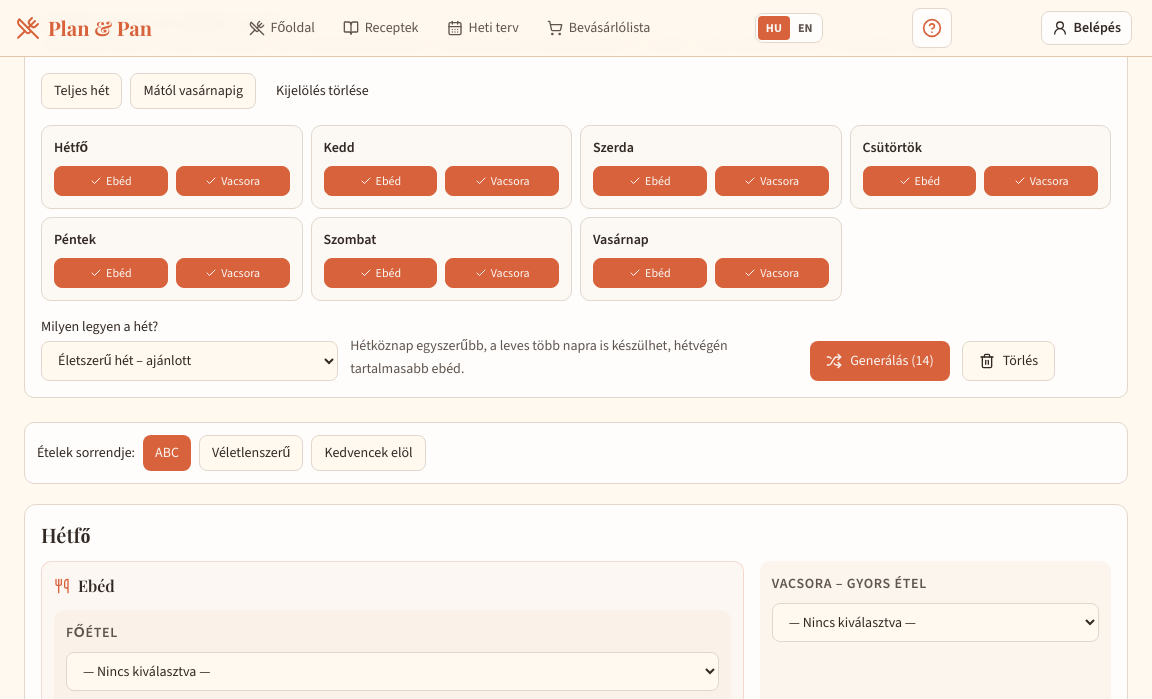
it: planner meal cards › offers the guided compact mobile planner and a direct shopping-list action
(page scrolled)
Click the button "Generálás (14)": (880, 360) [810,340,950,380]
(page scrolled)
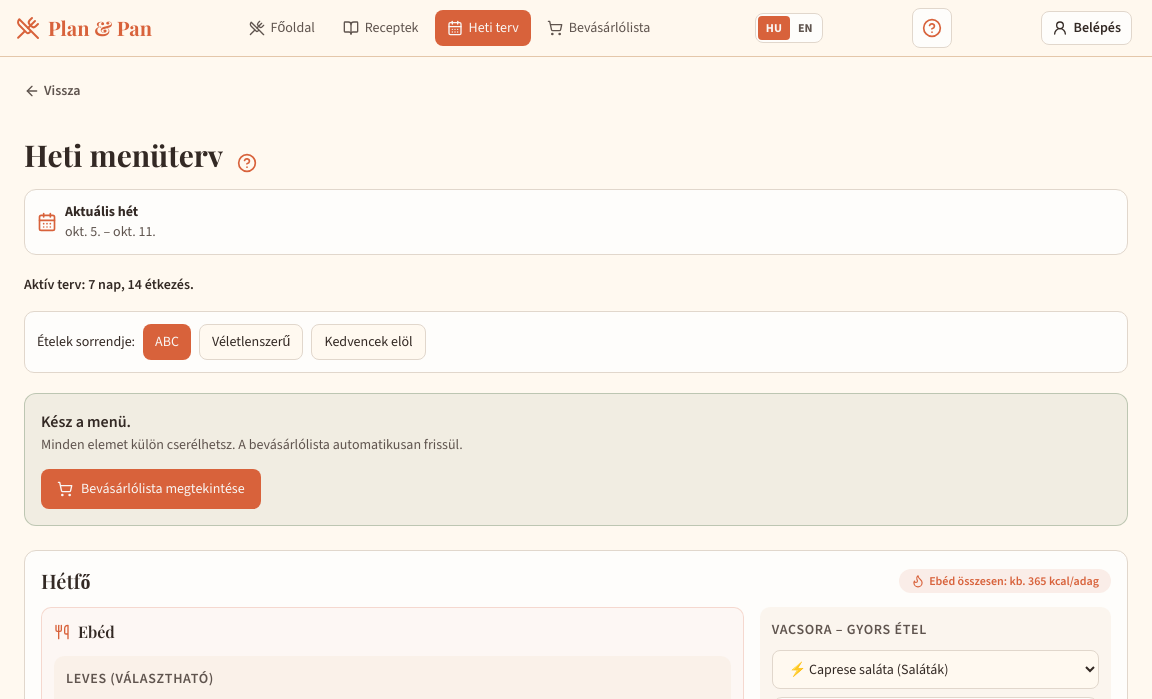
Expected: the link "Bevásárlólista" is shown, [547,18,650,37]
Expected: the heading "Melyik napokra készüljön menü?" is gone
